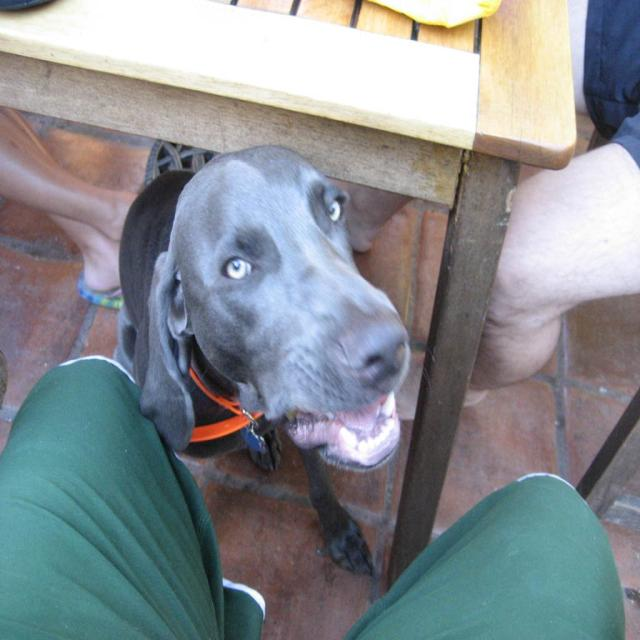Dog: (110, 139, 423, 570)
